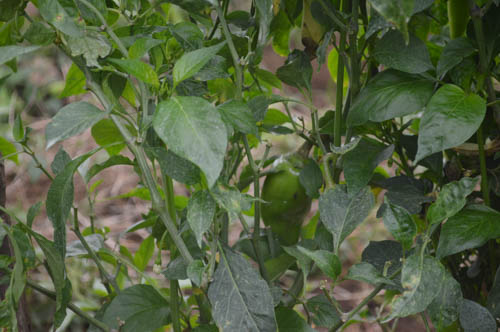ChiliPepper: (260, 158, 311, 247)
